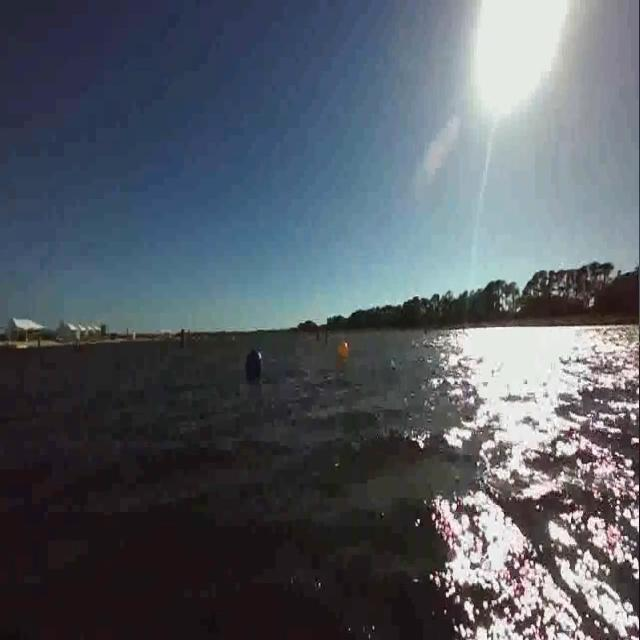blue-buoy: (243, 349, 260, 377)
yellow-buoy: (340, 339, 350, 360)
